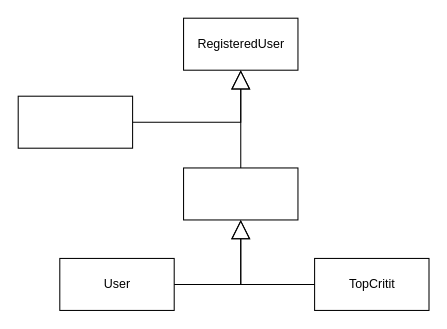
Image size: 447x329. Some labels were removed from this diagram. The box of each missing label's shape, as (x1, y1, x2, y2) in pixels:
Admin: (17, 95, 133, 148)
BaseUser: (183, 167, 298, 220)
